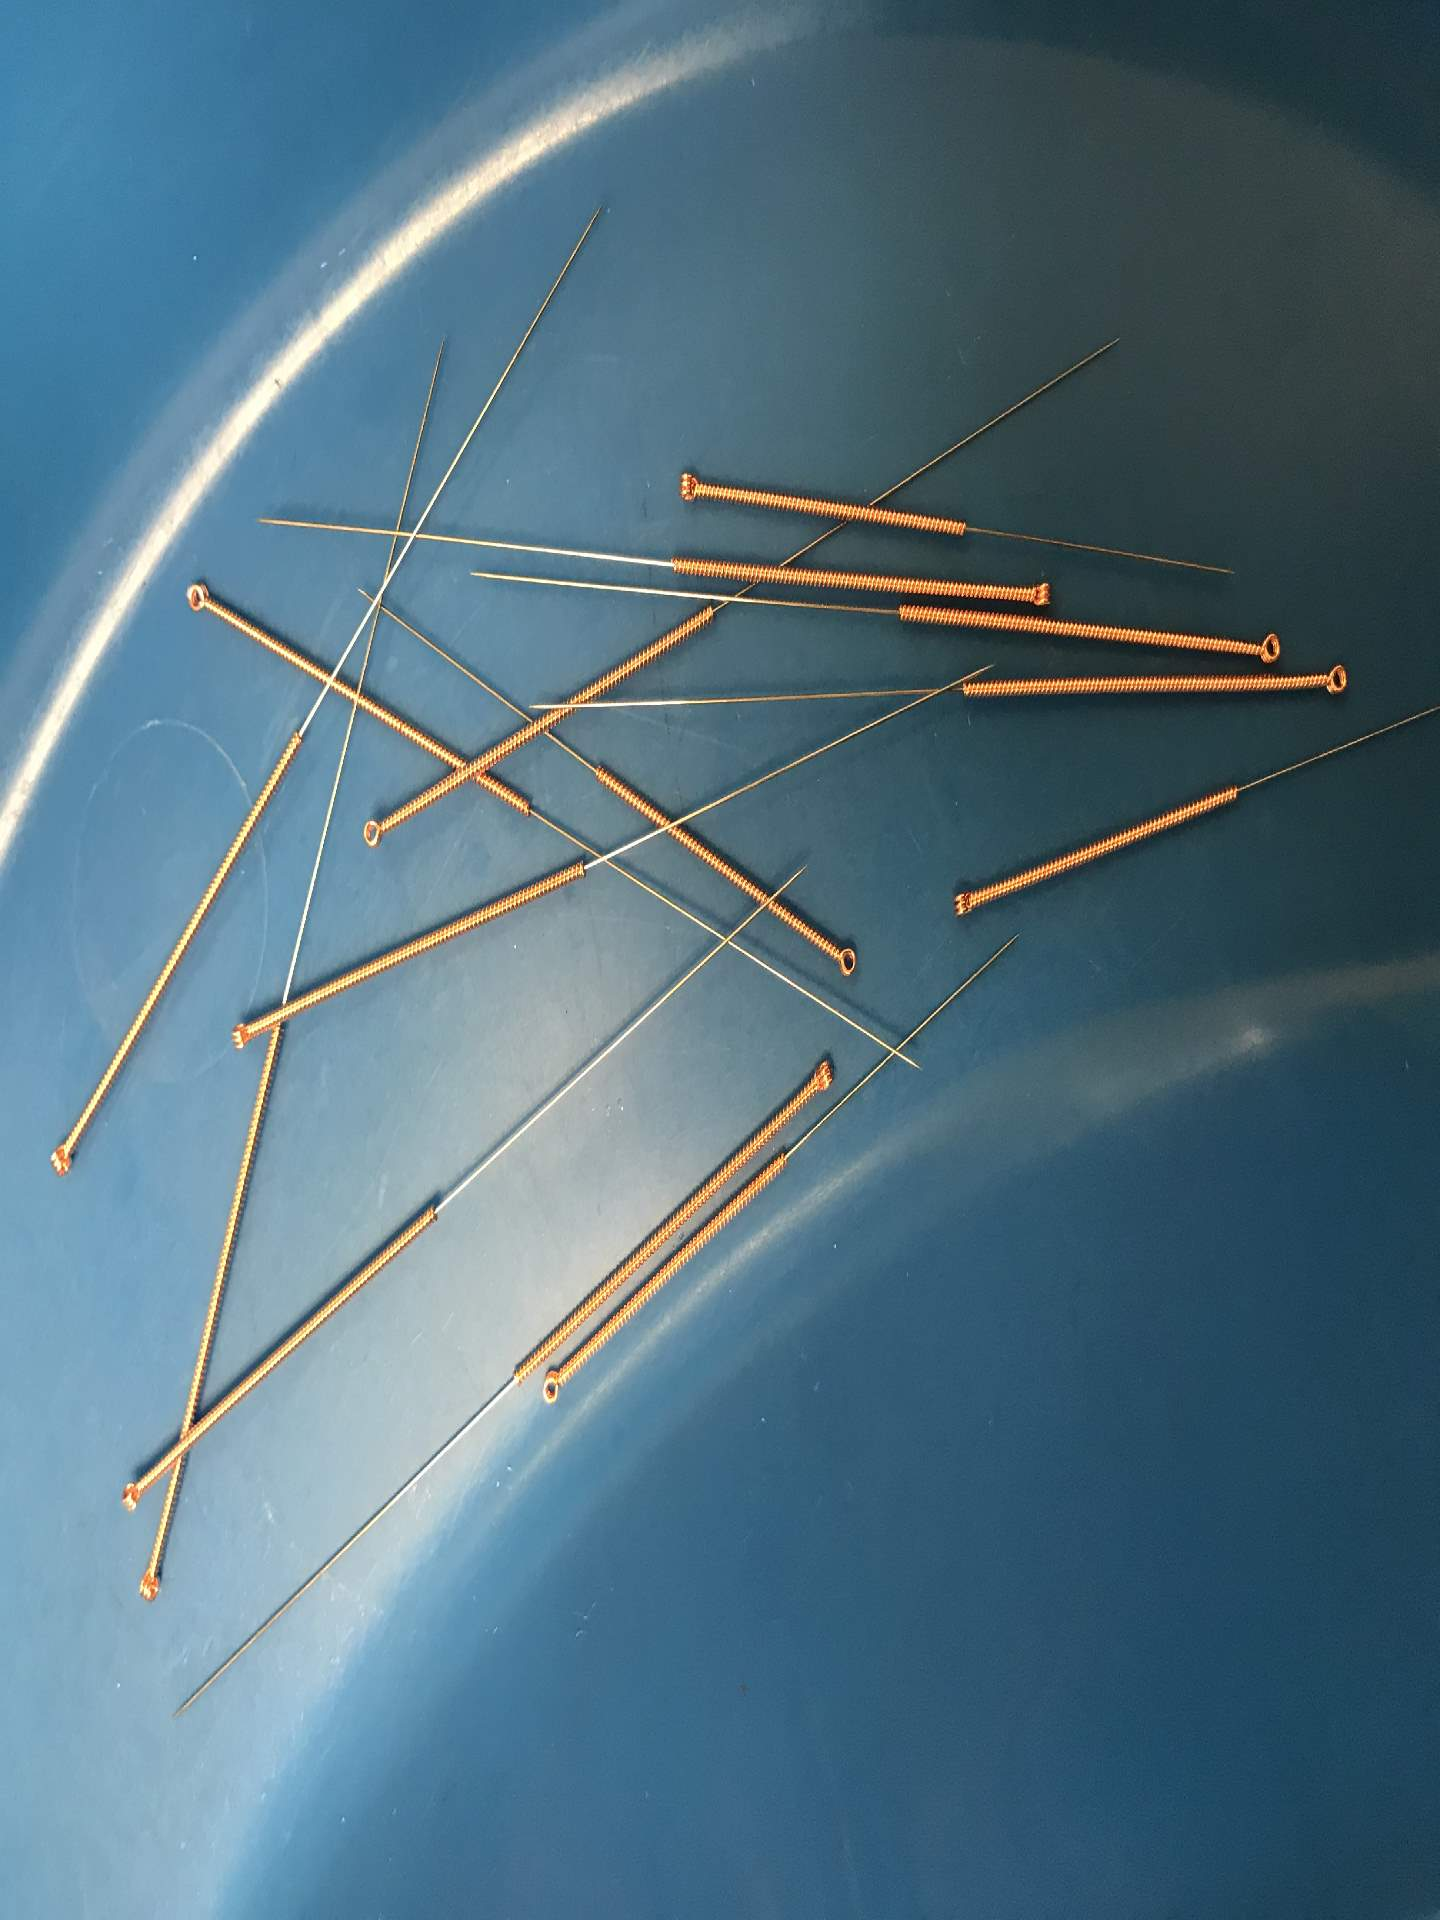needle: (38, 1132, 82, 1184), (175, 573, 219, 620), (667, 464, 709, 513), (944, 878, 985, 927), (821, 937, 864, 983), (109, 1473, 150, 1519), (130, 1559, 166, 1610), (1248, 624, 1289, 670), (1314, 655, 1354, 701), (354, 809, 395, 853), (803, 1048, 838, 1099), (1018, 574, 1057, 614), (535, 1367, 569, 1411), (224, 1014, 259, 1055)
